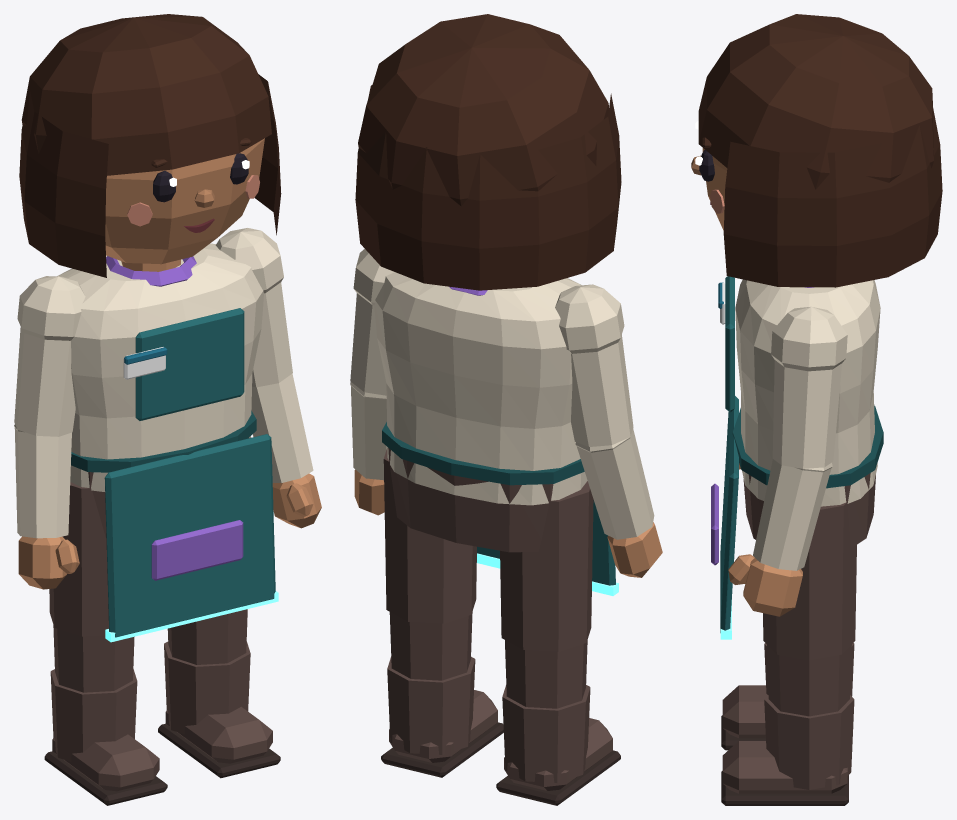
File: kas_spo.glb
3 views of the same model, side by side, from view 1: azimuth 30°, elevation 25°; view 2: azimuth 150°, elevation 25°; view 3: azimuth 270°, elevation 25° (orthographic).
Parts seen in each view (by area): view 1: haare, schürze, torso, arm_r, kopf, bein_r, schuh_l, schuh_r, arm_l, bein_l, hand_r, gesicht (+3 smaller); view 2: haare, torso, bein_r, arm_r, bein_l, schuh_r, schuh_l, becken, arm_l, schürze, hand_r, hand_l; view 3: haare, arm_l, torso, bein_l, schuh_l, schürze, hand_l, schuh_r, becken, gesicht, kopf.
Boxes of the visible parts, x1=… form: haare: x1=19, y1=14, x2=281, y2=277; schürze: x1=71, y1=308, x2=278, y2=642; torso: x1=57, y1=243, x2=263, y2=491; arm_r: x1=14, y1=276, x2=85, y2=538; kopf: x1=105, y1=138, x2=264, y2=264; bein_r: x1=49, y1=482, x2=134, y2=692; schuh_l: x1=158, y1=641, x2=280, y2=778; schuh_r: x1=44, y1=669, x2=167, y2=805; arm_l: x1=215, y1=228, x2=313, y2=483; bein_l: x1=167, y1=436, x2=251, y2=664; hand_r: x1=18, y1=536, x2=79, y2=589; gesicht: x1=127, y1=138, x2=259, y2=232; haare: x1=355, y1=14, x2=621, y2=290; torso: x1=374, y1=272, x2=587, y2=505; bein_r: x1=500, y1=481, x2=593, y2=708; arm_r: x1=555, y1=284, x2=654, y2=539; bein_l: x1=383, y1=448, x2=476, y2=680; schuh_r: x1=496, y1=685, x2=620, y2=805; schuh_l: x1=381, y1=656, x2=503, y2=777; becken: x1=388, y1=448, x2=553, y2=552; arm_l: x1=350, y1=249, x2=394, y2=480; schürze: x1=382, y1=422, x2=618, y2=595; hand_r: x1=607, y1=522, x2=662, y2=577; hand_l: x1=354, y1=469, x2=384, y2=515; haare: x1=698, y1=14, x2=942, y2=287; arm_l: x1=753, y1=306, x2=847, y2=570; torso: x1=735, y1=279, x2=880, y2=506; bein_l: x1=763, y1=502, x2=856, y2=716; schuh_l: x1=721, y1=695, x2=854, y2=805; schürze: x1=711, y1=276, x2=883, y2=639; hand_l: x1=728, y1=554, x2=802, y2=616; schuh_r: x1=721, y1=643, x2=854, y2=750; becken: x1=743, y1=473, x2=875, y2=548; gesicht: x1=691, y1=121, x2=724, y2=213; kopf: x1=702, y1=148, x2=727, y2=230.
Size of the model in its own units: 0.0103 by 0.0245 by 0.00763.
